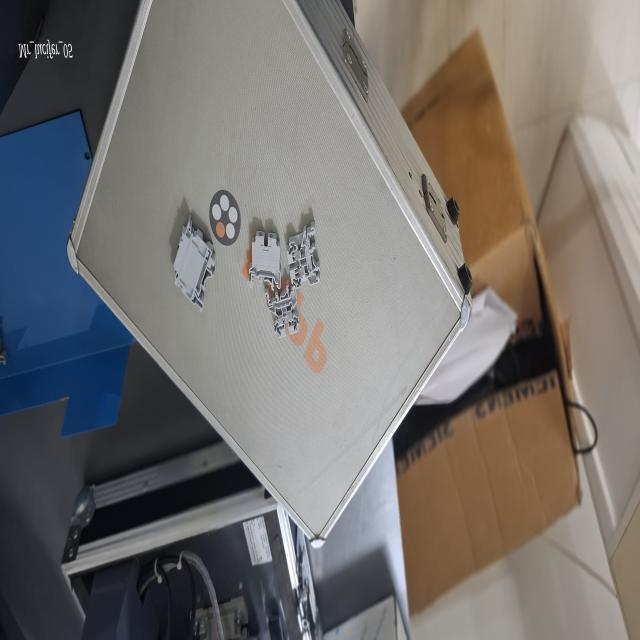Inverted: (246, 218, 288, 298)
Pass: (286, 215, 328, 296), (264, 278, 300, 341)
